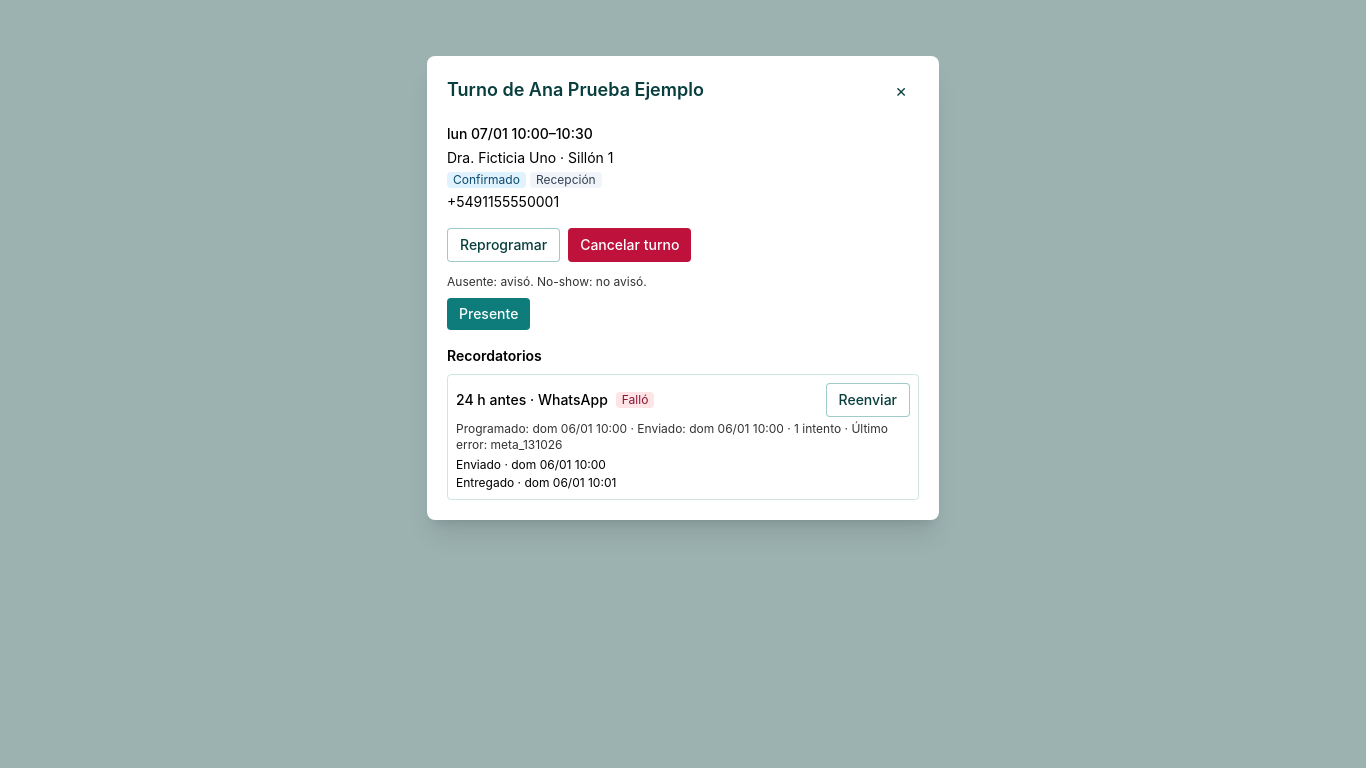
Test: AppointmentDetail › recordatorios (C-11) › doble clic manda un solo pedido
This screenshot has width=1366, height=768.
Double-click the button with aria-label "Reenviar 24 h antes · WhatsApp" at (868, 400), box x1=826 y1=383 x2=910 y2=417
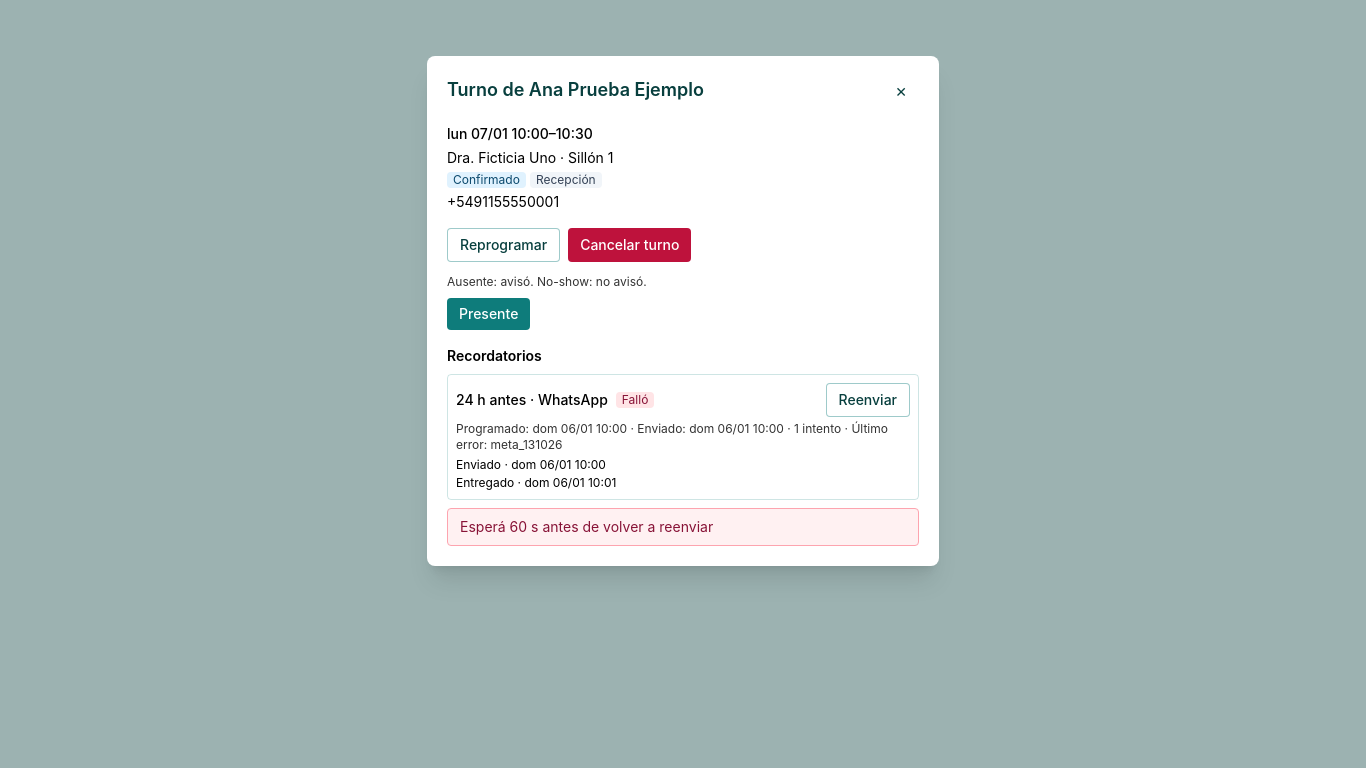
Expected: the text "Esperá 60 s antes de volver a reenviar" is shown, x1=447 y1=508 x2=919 y2=546
